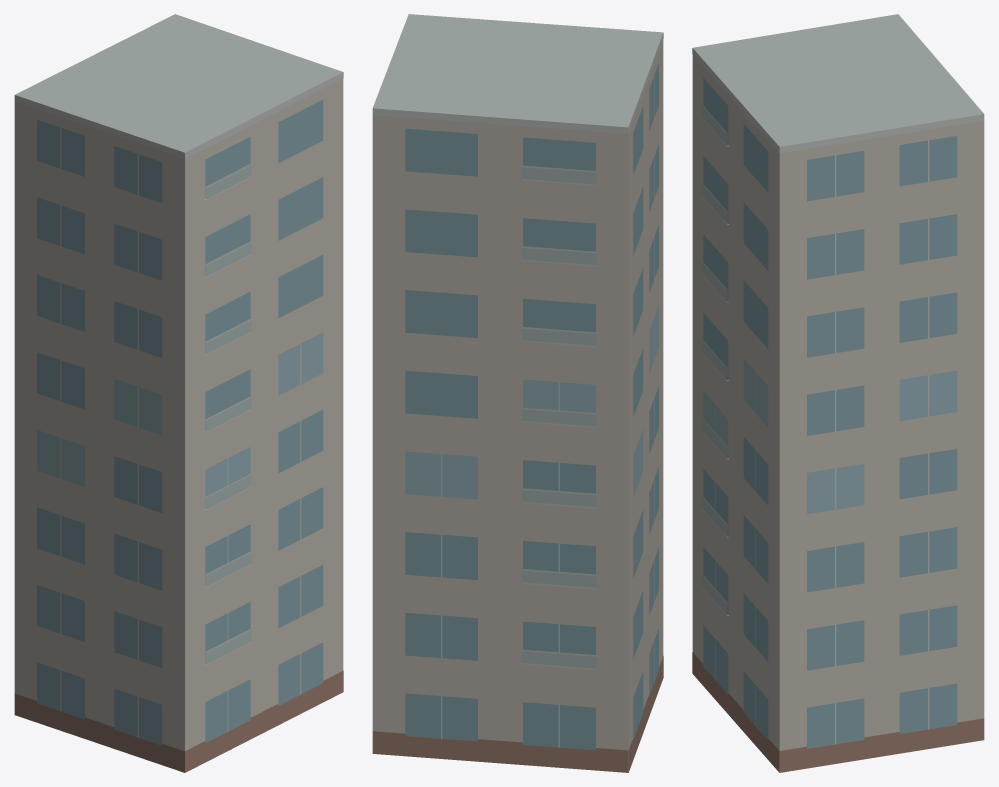
File: survey-upis-32560916.glb
3 renders of one model, left to right at view 1: azimuth 30°, elevation 25°; view 2: azimuth 150°, elevation 25°; view 3: azimuth 270°, elevation 25°, orthographic. The views are drawn at different scales.
Parts seen in each view (by area): view 1: survey-upis-32560916.tmp; view 2: survey-upis-32560916.tmp; view 3: survey-upis-32560916.tmp.
Boxes of the visible parts, box(x1,y1,x2,y2) form: survey-upis-32560916.tmp: box(14, 14, 343, 772); survey-upis-32560916.tmp: box(372, 14, 663, 772); survey-upis-32560916.tmp: box(692, 14, 984, 772).
Size of the model in its own units: 10.9 by 23.9 by 10.11.
